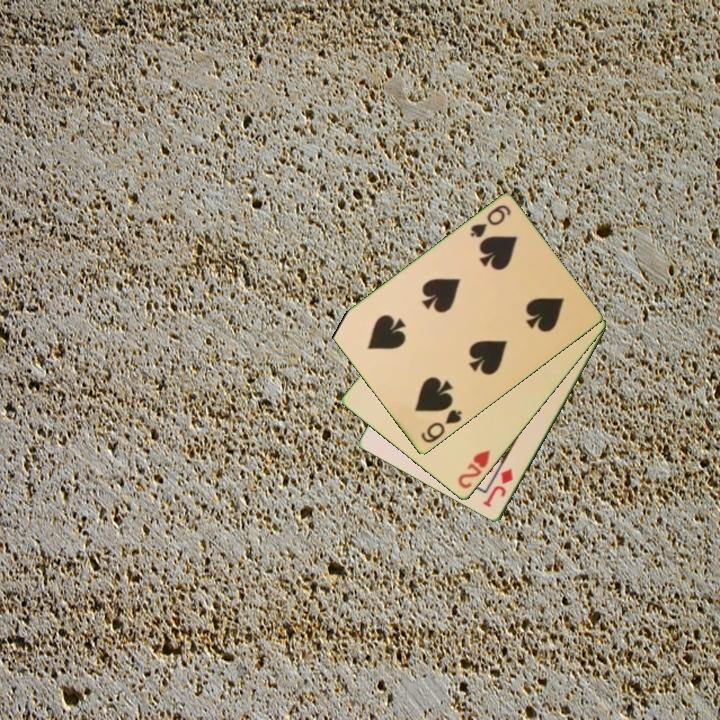2h: (454, 446, 493, 492)
6s: (417, 406, 465, 446), (466, 201, 514, 241)
Jd: (479, 465, 516, 511)
